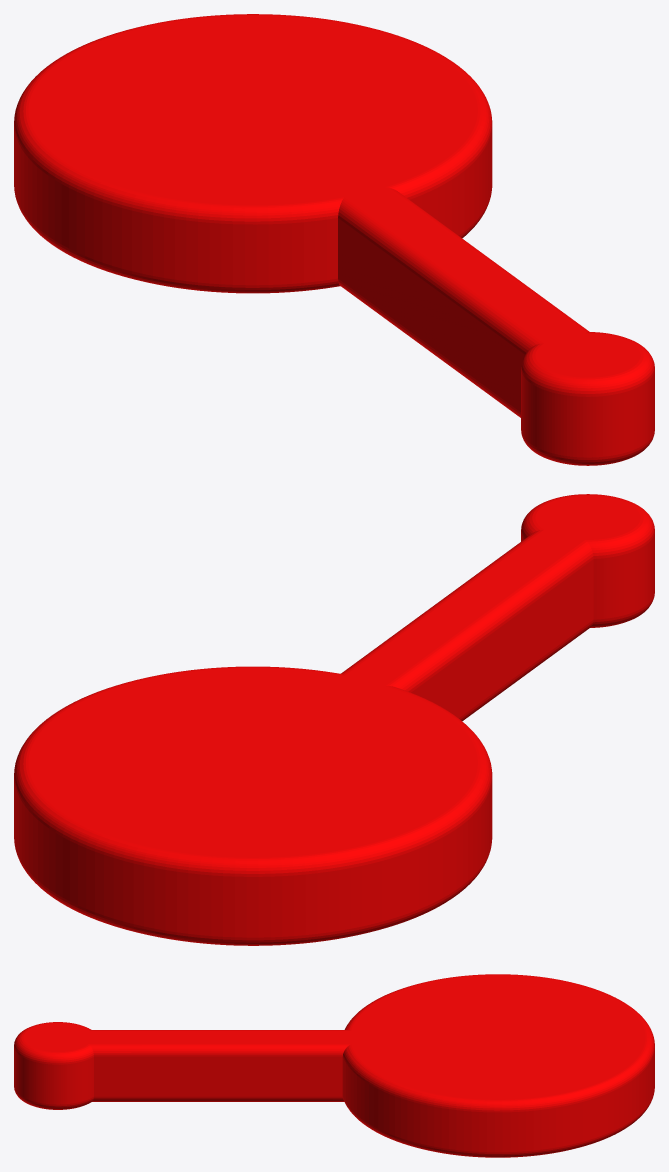
The model's file is GripperArmGear.dae.
3 views of the same model, one above another, from view 1: azimuth 30°, elevation 25°; view 2: azimuth 150°, elevation 25°; view 3: azimuth 270°, elevation 25° (orthographic). The views are drawn at different scales.
Visible parts, largest first — view 1: node0; view 2: node0; view 3: node0.
Part boxes in pixels (x1=…): node0: x1=14, y1=14, x2=654, y2=465; node0: x1=14, y1=494, x2=654, y2=945; node0: x1=14, y1=974, x2=654, y2=1157.
Size of the model in its own units: 25 by 51 by 5.
